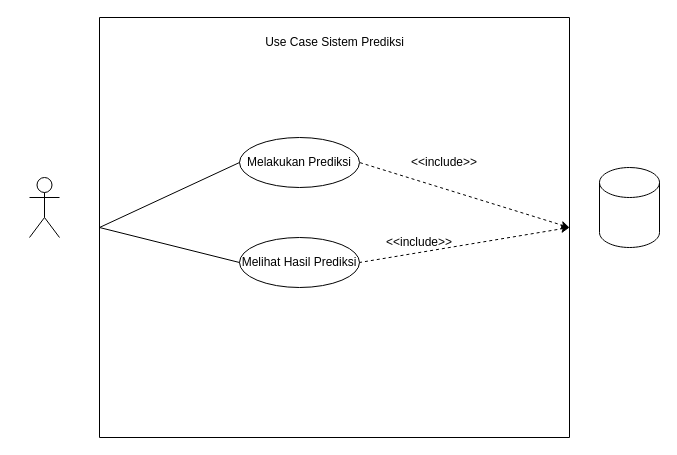
This 677x455 diagram has some shape labels left out. The shapes that lost their labels are listed below. From the top down, each one's box as (x1, y1, x2, y2) in pixels, then its label:
(28, 176, 60, 238): Pengguna
(598, 166, 660, 248): Data Prediksi
